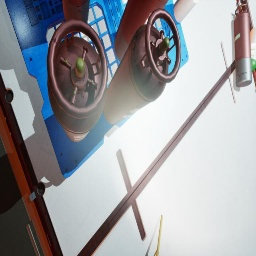0: (173, 0, 199, 23), (250, 27, 256, 72)
NitrogenTank ,: (103, 8, 181, 125), (47, 18, 108, 142), (114, 0, 169, 62), (234, 4, 252, 87), (62, 0, 90, 23)
